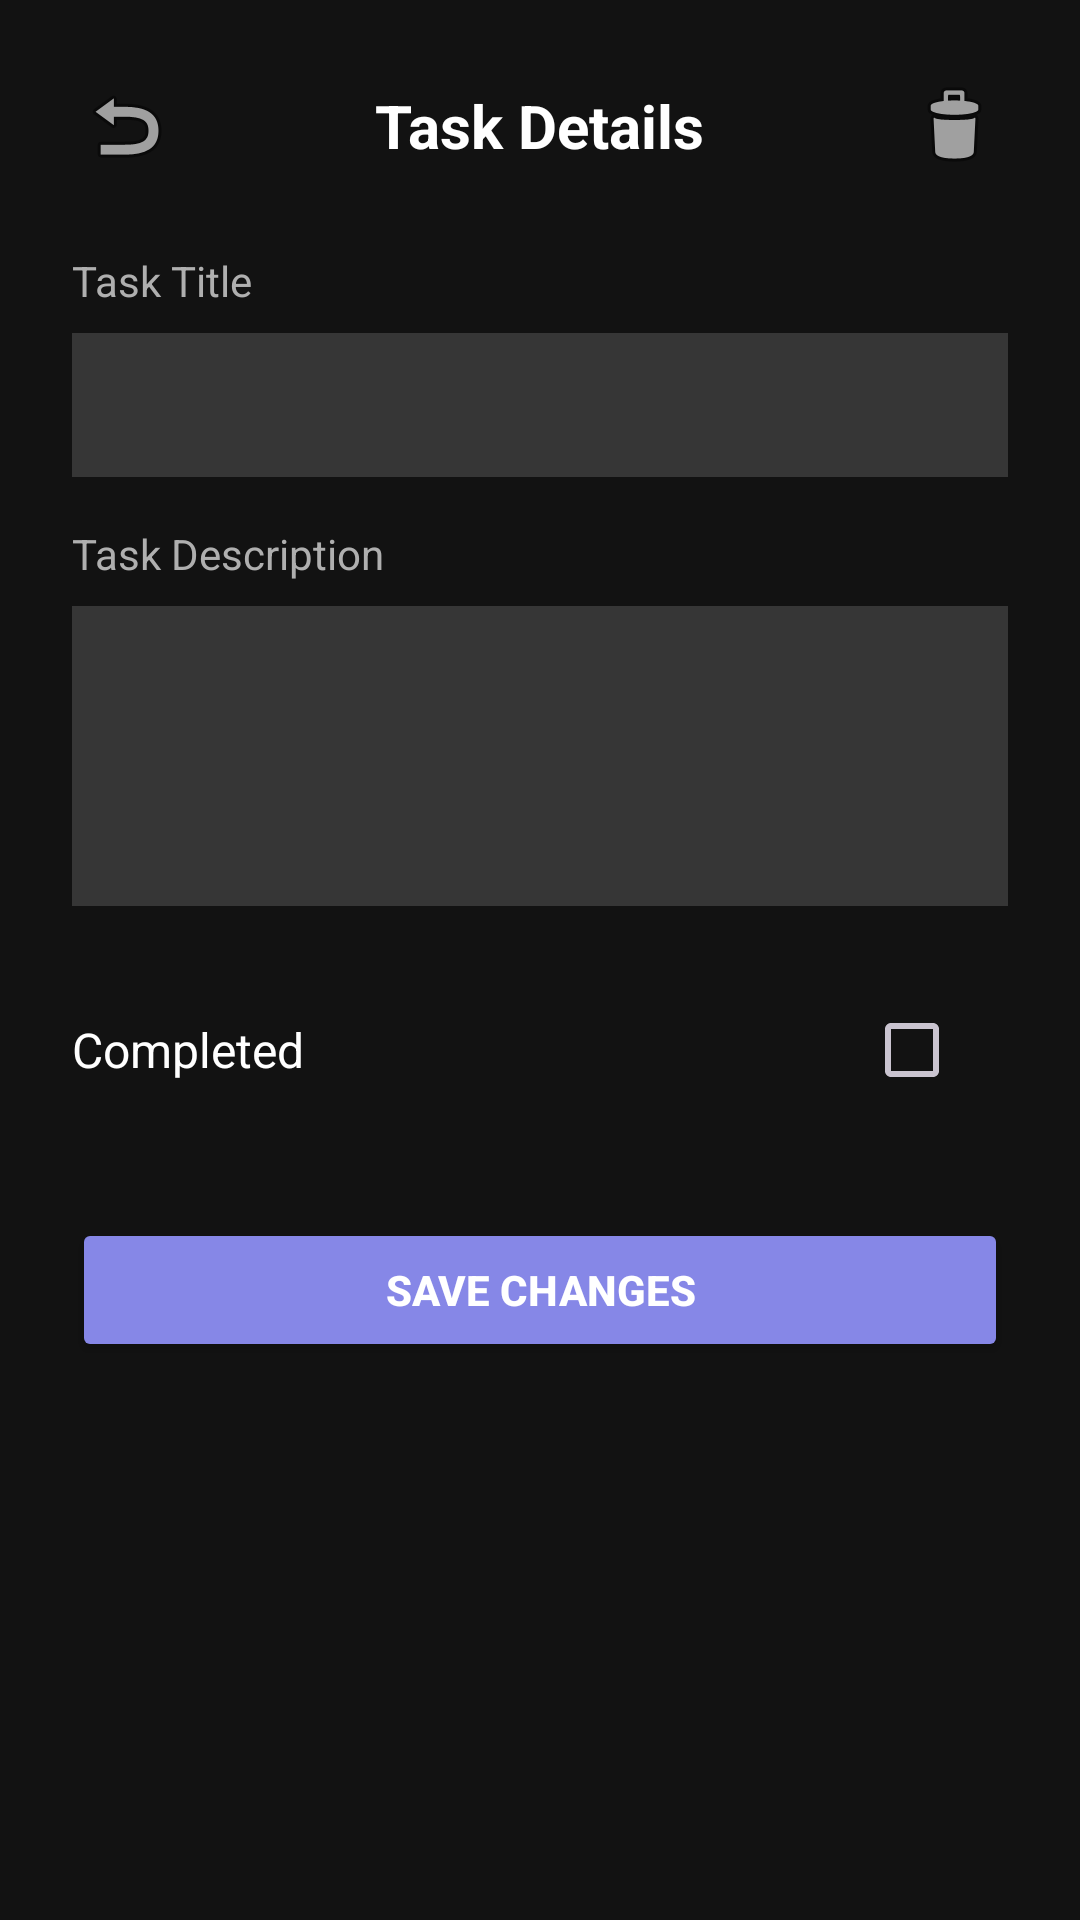

Named icons in this screenshot (1080px×1920px) and their bounding boxes, (left=x1, top=y1, right=x2, bottom=y2):
Back: (left=96, top=98, right=159, bottom=155)
Delete: (left=930, top=90, right=979, bottom=159)
